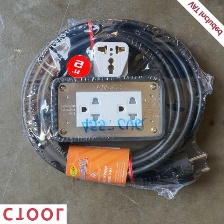three_eye_plug: (48, 73, 169, 148)
